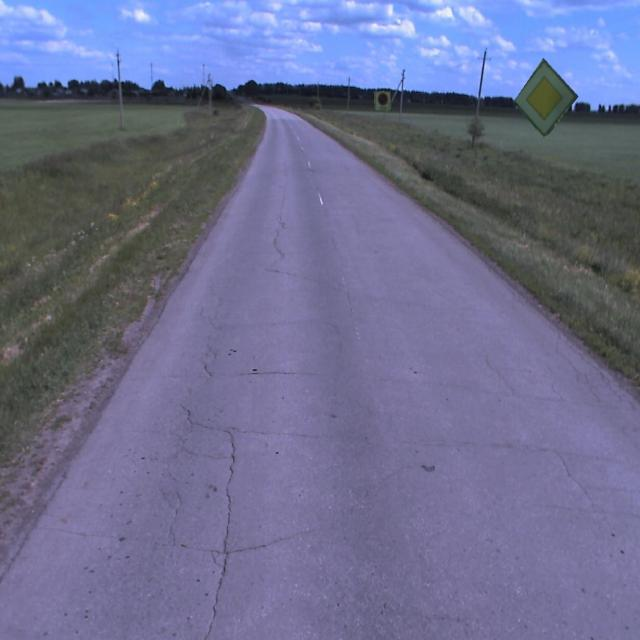road: (0, 106, 639, 639)
